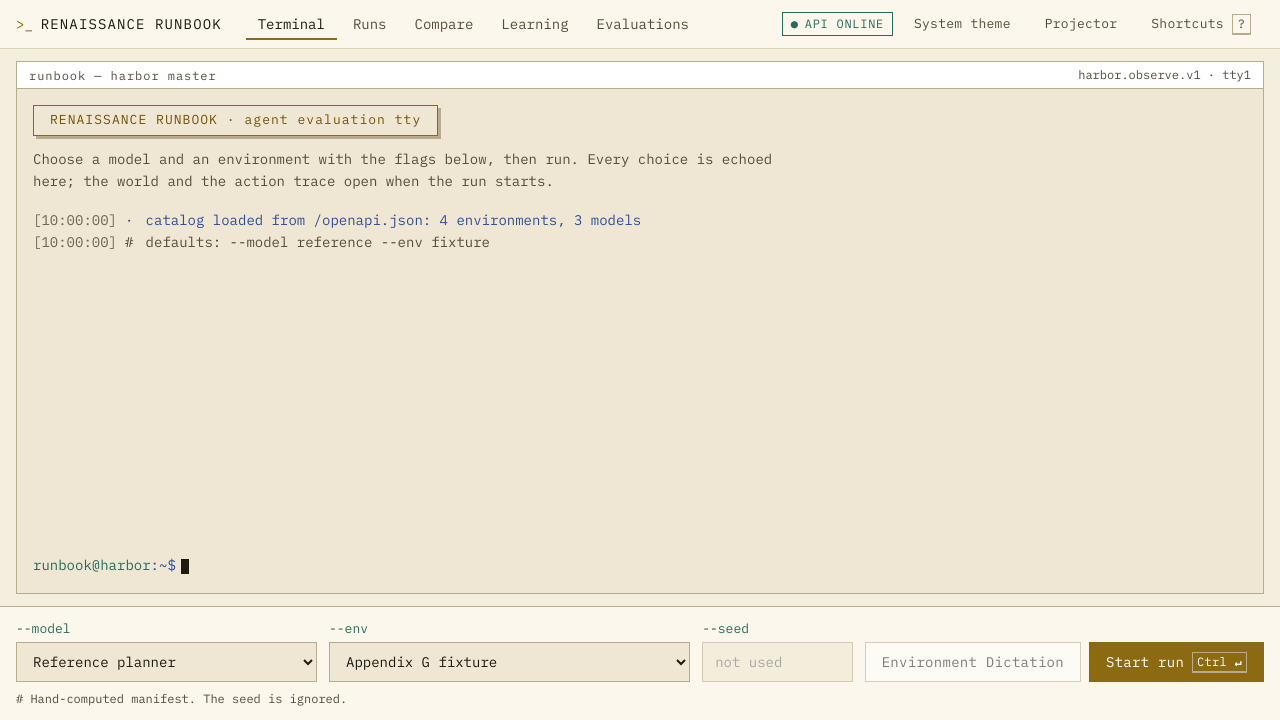
Test case: pre-run console › logs a rejected seed
Select "Forecast closure" in the dropdown named "Environment" at (510, 662), box x1=329 y1=642 x2=690 y2=682
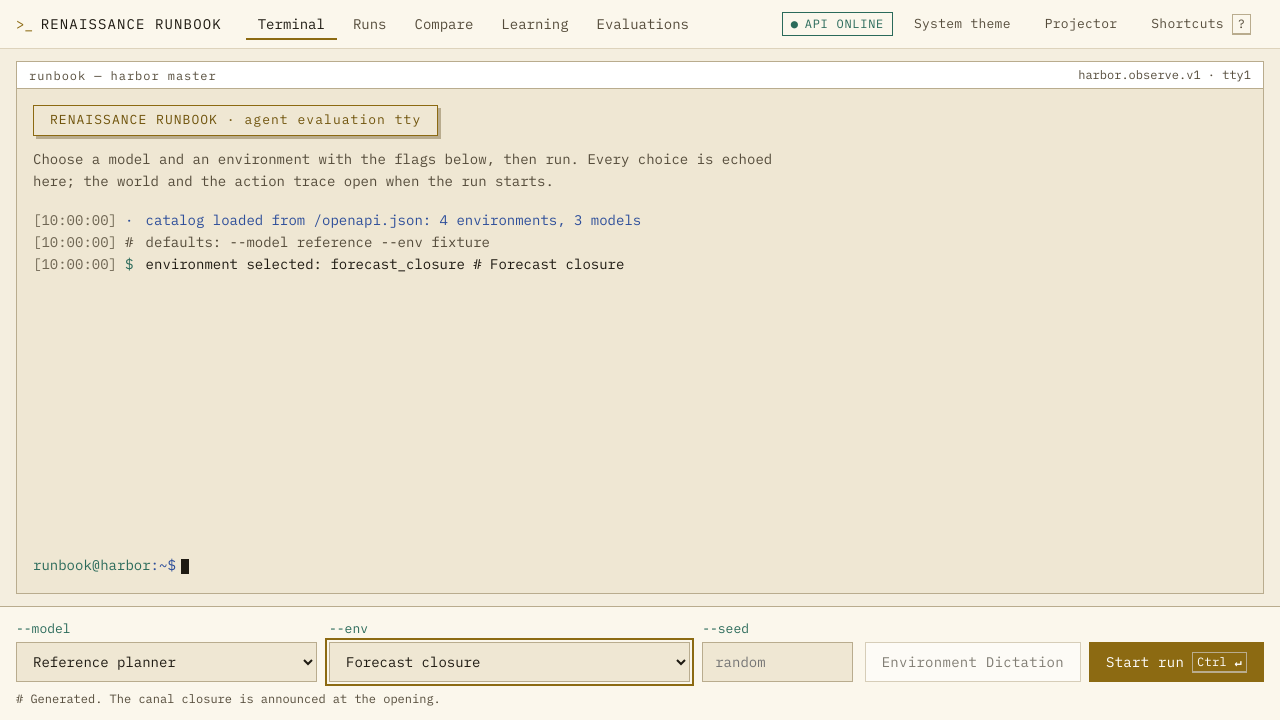
Type "abc" into the field labelled "seed" at (777, 662), box x1=702 y1=642 x2=853 y2=682
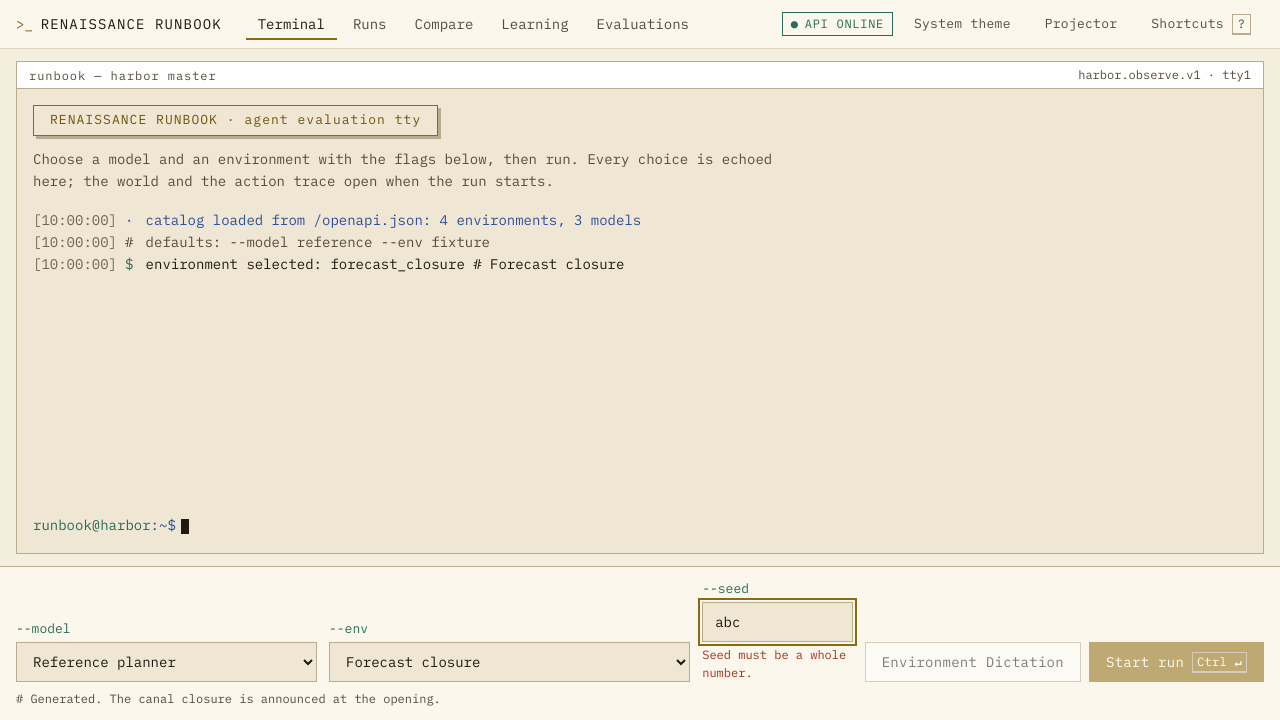
Press Tab
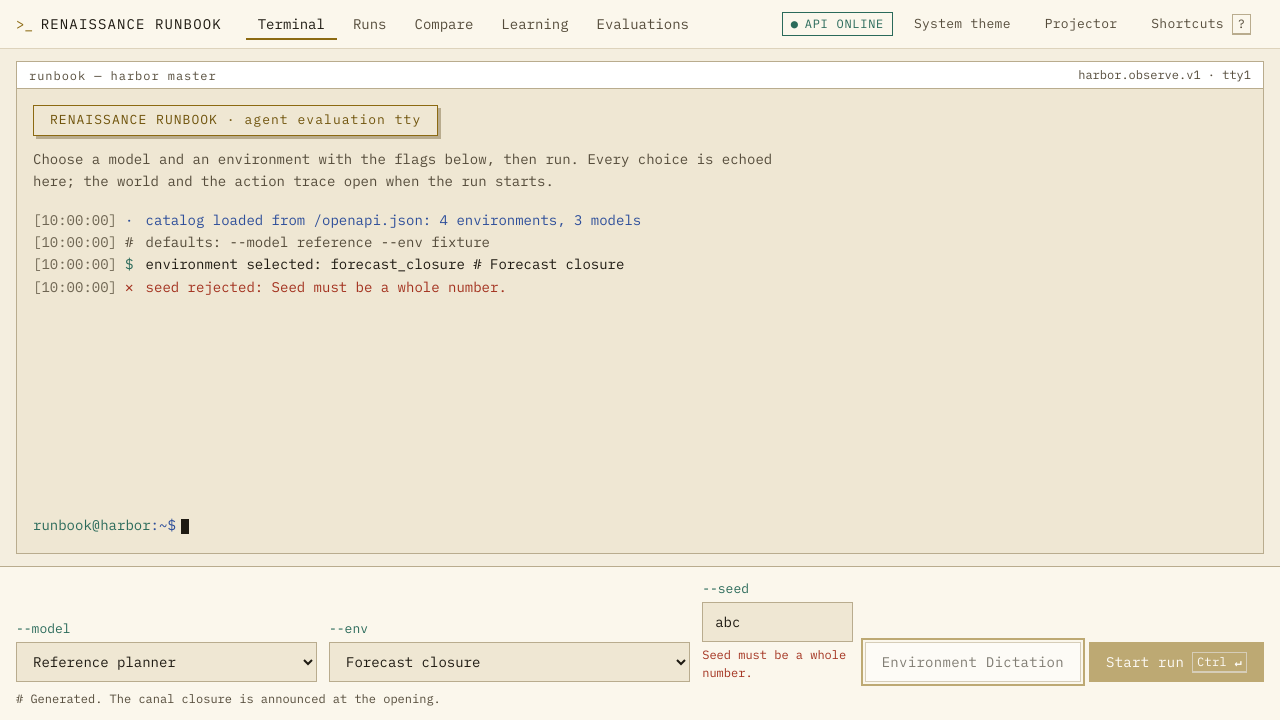
Result: the text "seed rejected: Seed must be a whole number." is shown at x1=146 y1=278 x2=507 y2=296
